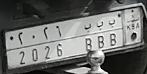0: (29, 32, 40, 63)
2: (17, 30, 26, 66), (42, 25, 51, 61)
6: (54, 24, 64, 58)
B: (82, 23, 93, 54), (94, 20, 105, 49), (108, 19, 117, 47)
